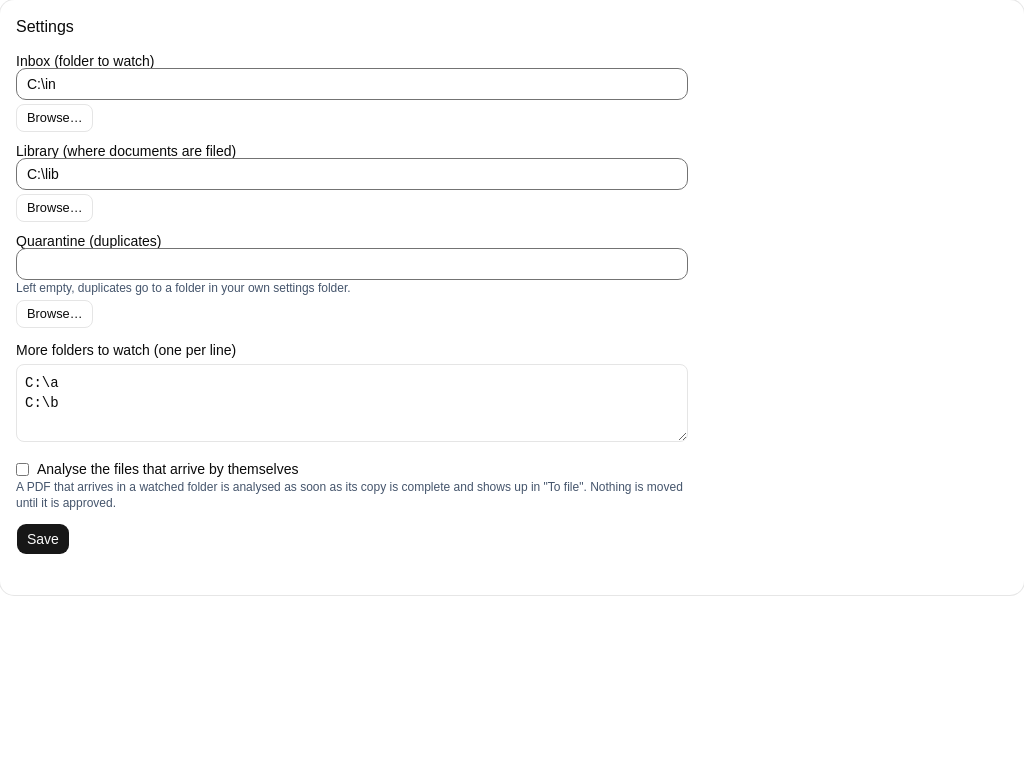
Test: the folder picker cannot go up from the root, and goes up elsewhere
Step 1. Click the button "Browse…" below "Inbox (folder to watch)" → (55, 118), box [16,104,94,132]
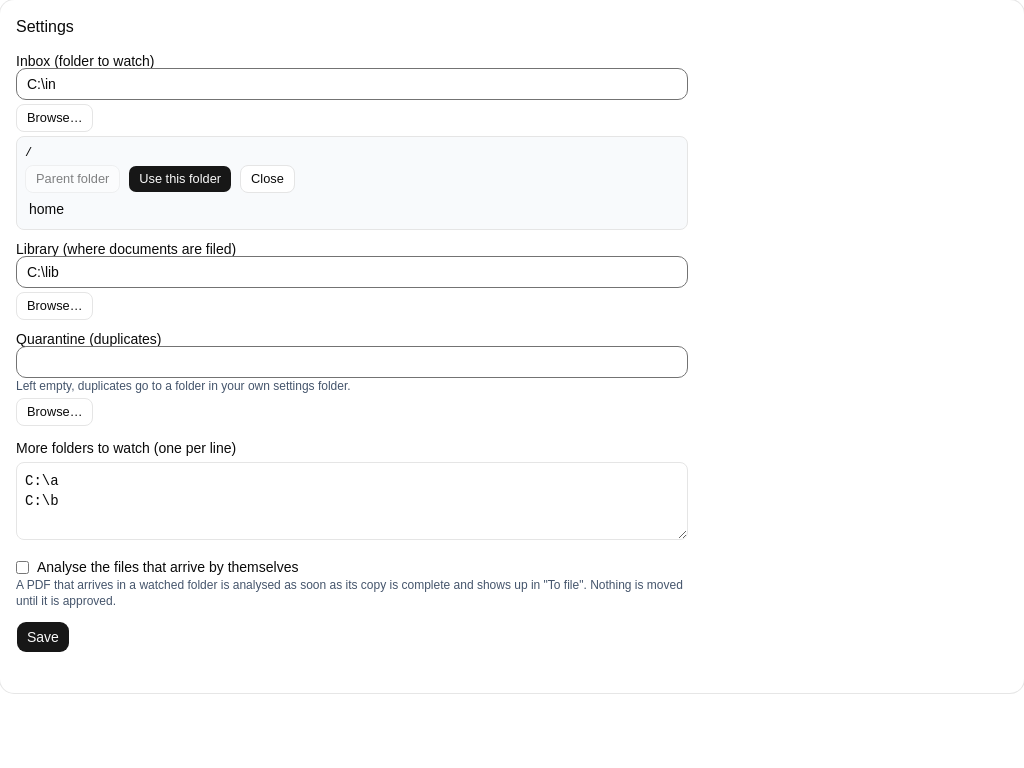
Expected: the button "Parent folder" is disabled, [25,165,120,193]
Step 2. Click the button "home" → (47, 209), box [25,197,679,221]
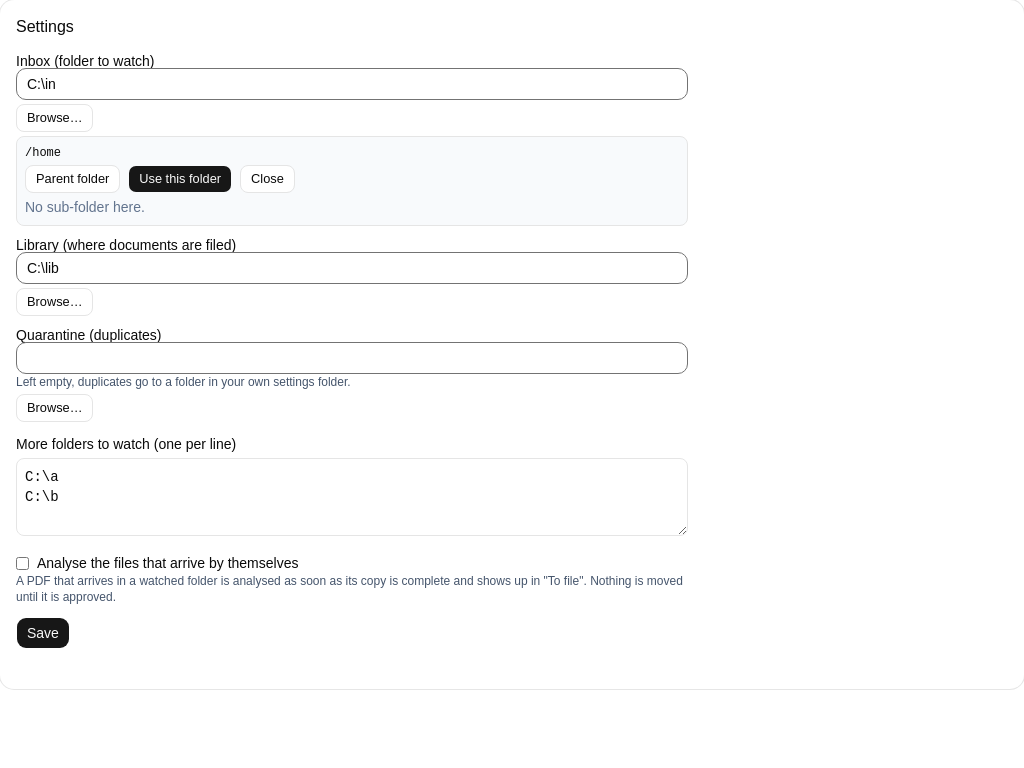
Expected: the button "Parent folder" is enabled
Step 3. Click the button "Parent folder" → (73, 179), box [25,165,120,193]
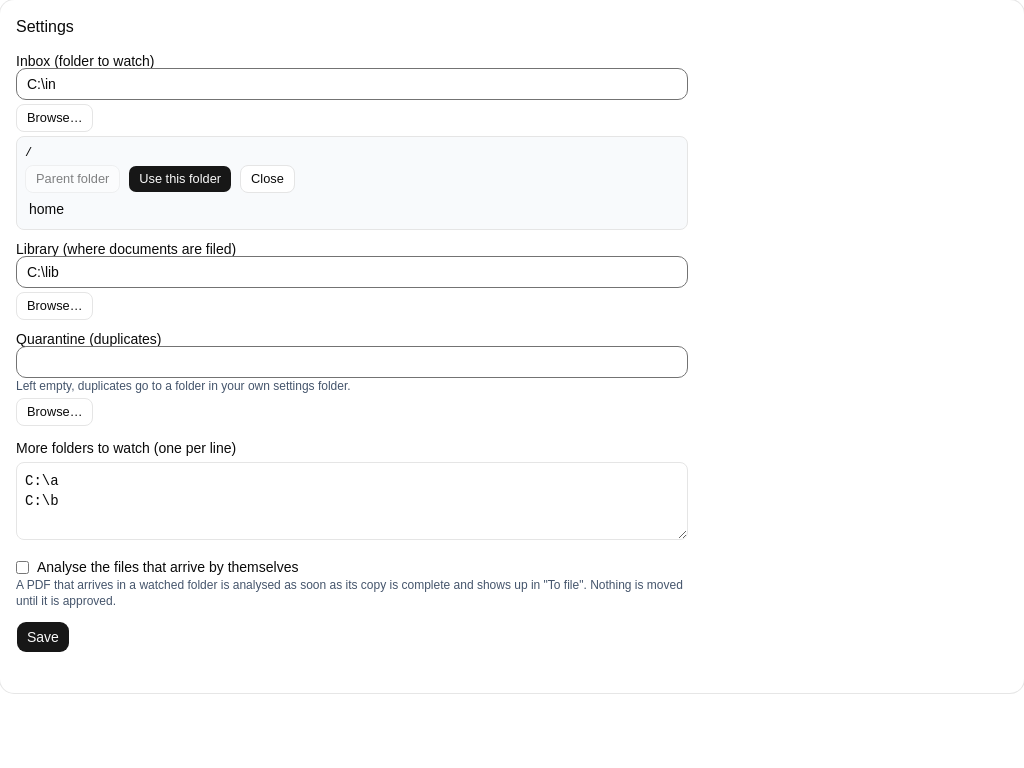
Expected: the button "Parent folder" is disabled, [25,165,120,193]
